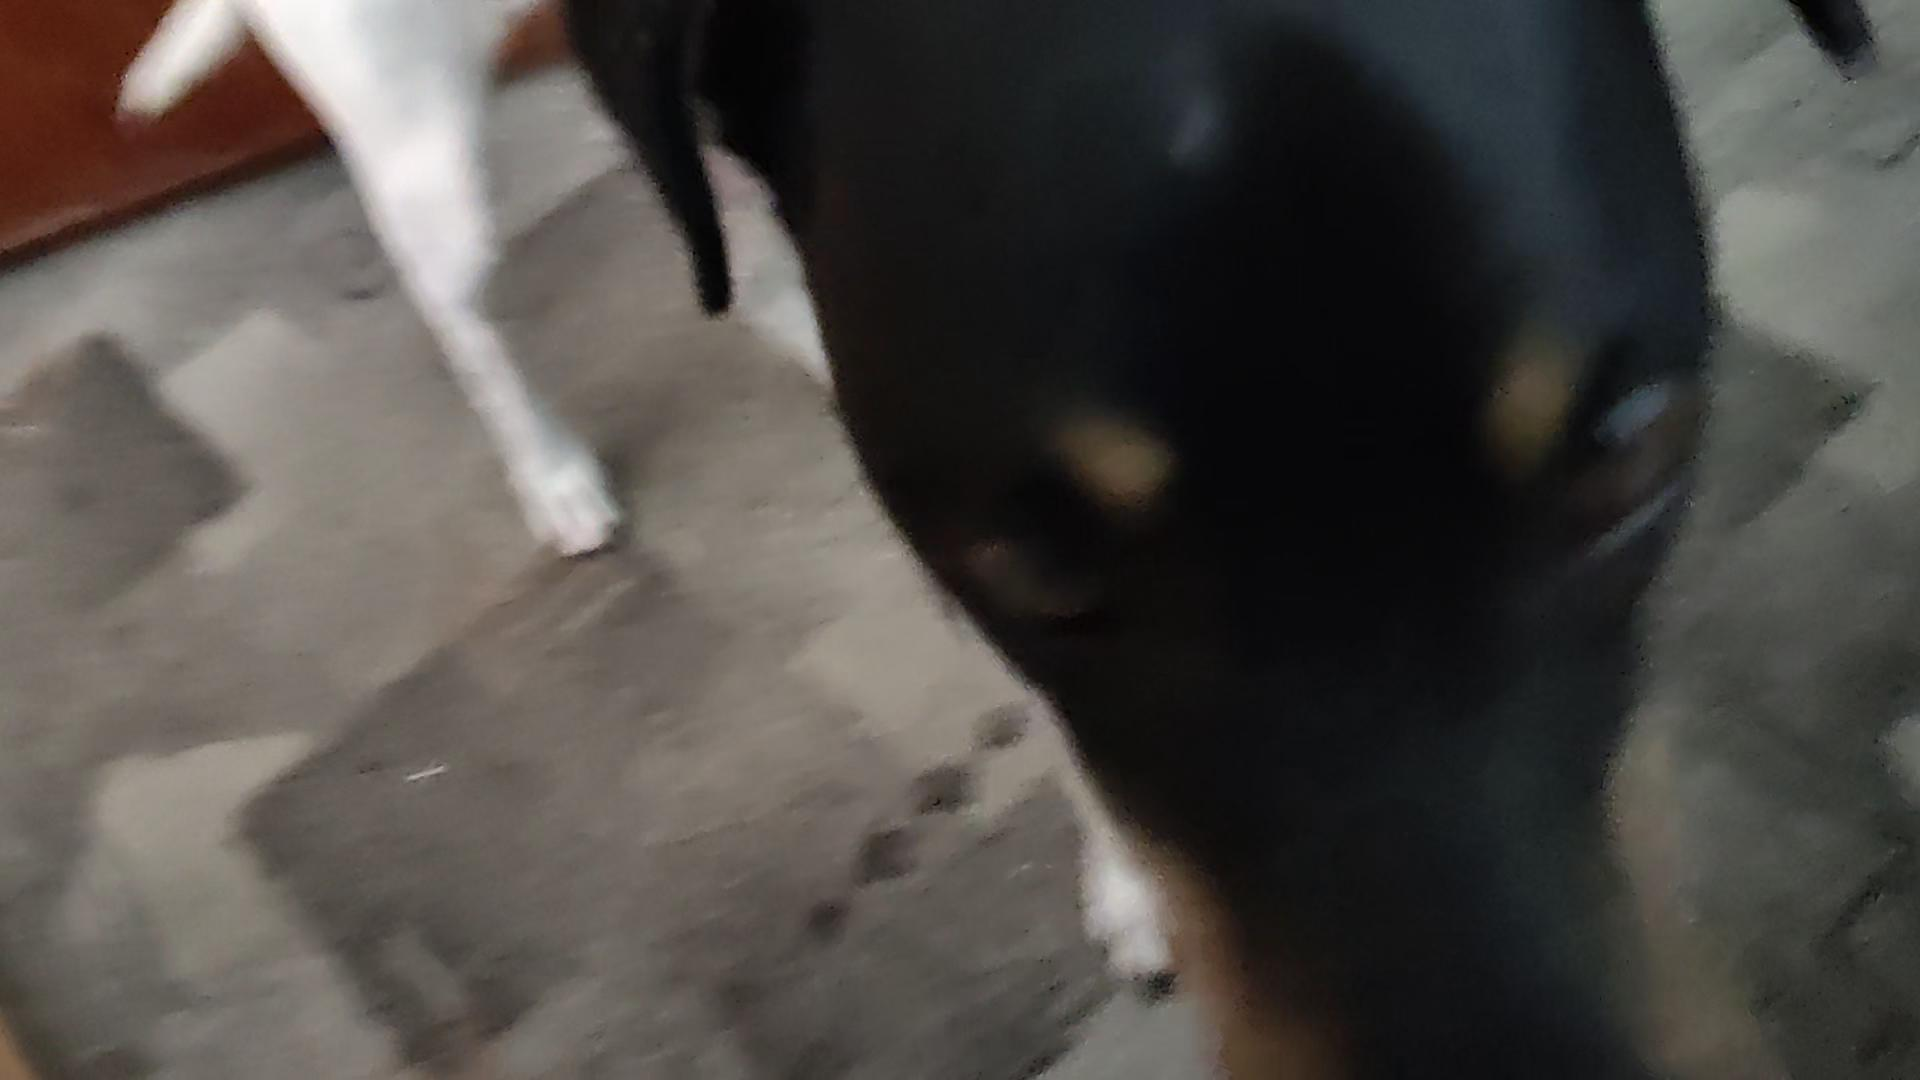Dog: (86, 0, 1888, 1080)
